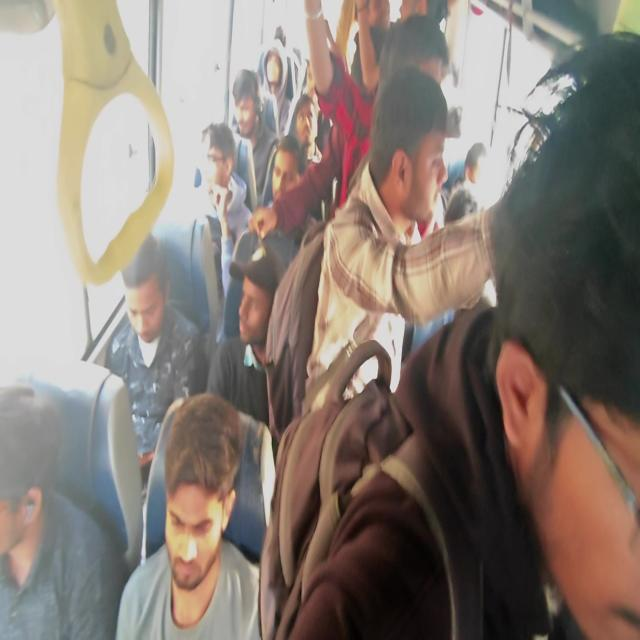person: (286, 31, 639, 638), (303, 64, 503, 414), (115, 391, 262, 638), (249, 1, 381, 238), (0, 382, 114, 639), (105, 232, 208, 489), (206, 243, 284, 429), (200, 121, 254, 339), (250, 134, 312, 268), (230, 68, 280, 208), (258, 47, 292, 138), (288, 92, 316, 173)
